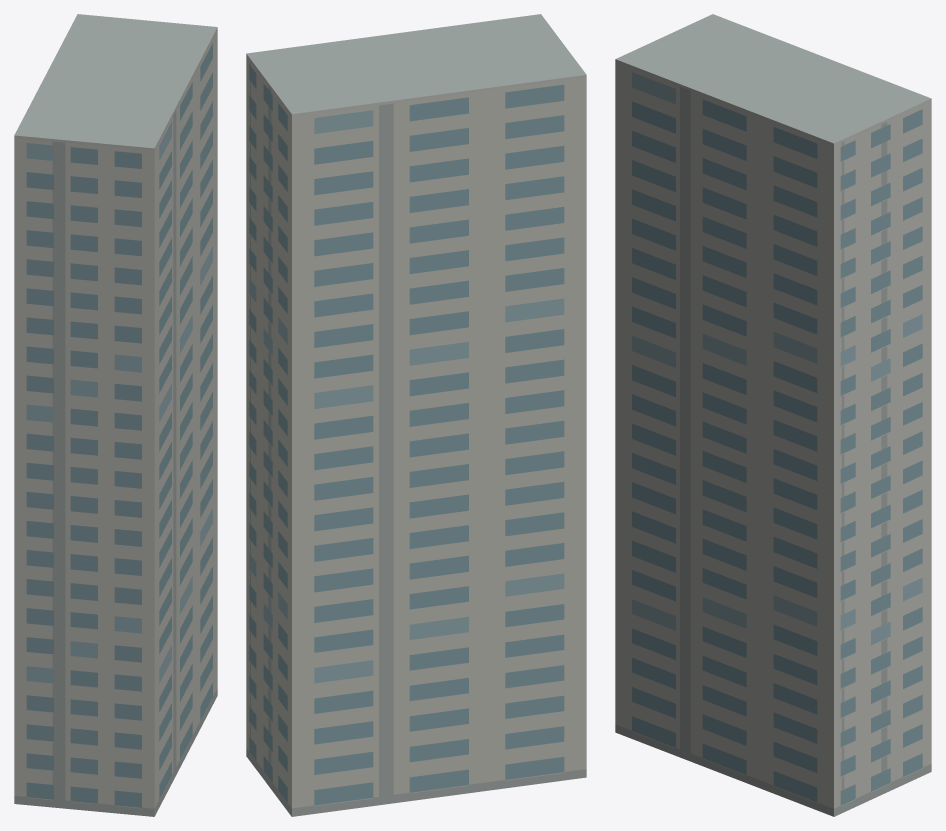
The model's file is residential-a6eaf52e-f52e-4d50-9364-0f9ced241286.glb.
The picture shows the model from 3 angles, left to right: view 1: azimuth 30°, elevation 25°; view 2: azimuth 150°, elevation 25°; view 3: azimuth 270°, elevation 25°; orthographic projection. The views are drawn at different scales.
Parts seen in each view (by area): view 1: residential-a6eaf52e-f52e-4d50-9364-0f9ced241286.tmp; view 2: residential-a6eaf52e-f52e-4d50-9364-0f9ced241286.tmp; view 3: residential-a6eaf52e-f52e-4d50-9364-0f9ced241286.tmp.
Part boxes in pixels (bbox=[...]): residential-a6eaf52e-f52e-4d50-9364-0f9ced241286.tmp: bbox=[14, 14, 217, 816]; residential-a6eaf52e-f52e-4d50-9364-0f9ced241286.tmp: bbox=[246, 14, 586, 816]; residential-a6eaf52e-f52e-4d50-9364-0f9ced241286.tmp: bbox=[615, 14, 931, 816].
Size of the model in its own units: 25.18 by 61 by 25.97.
